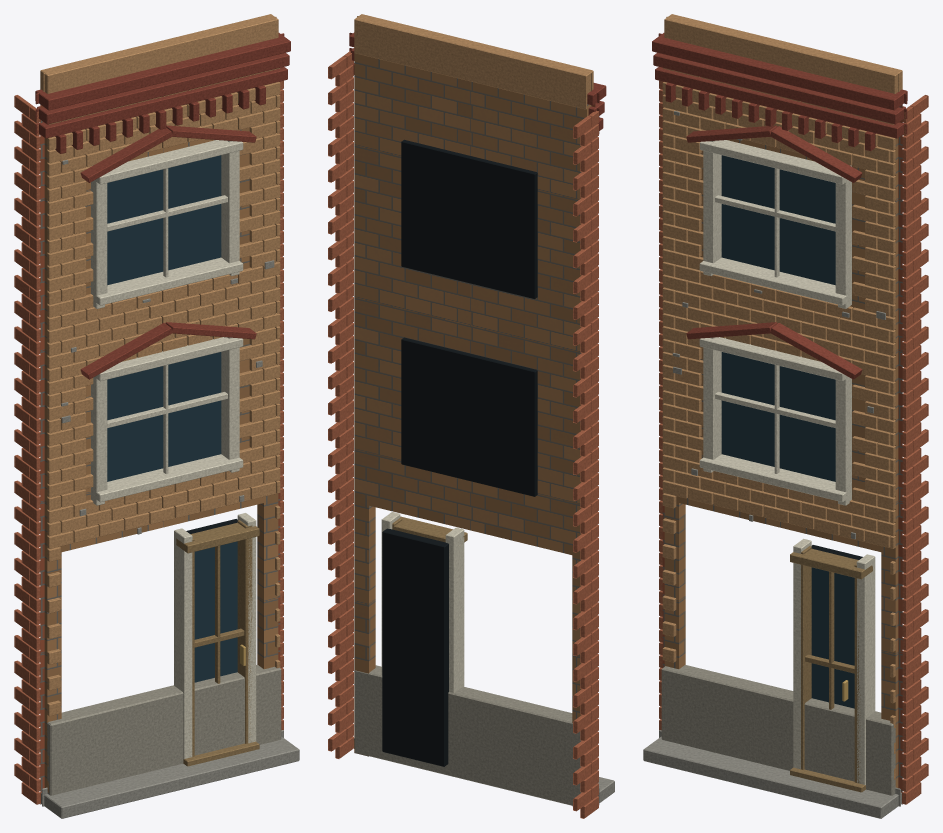
Rendered from VICT1A_lod0.glb.
3 renders of one model, left to right at view 1: azimuth 30°, elevation 25°; view 2: azimuth 150°, elevation 25°; view 3: azimuth 330°, elevation 25°, orthographic.
Visible parts, largest first — view 1: VICT1A_FRONT_LOD0; view 2: VICT1A_FRONT_LOD0; view 3: VICT1A_FRONT_LOD0.
Part boxes in pixels (<box>): VICT1A_FRONT_LOD0: <box>14,14,299,818</box>; VICT1A_FRONT_LOD0: <box>328,14,614,818</box>; VICT1A_FRONT_LOD0: <box>643,14,928,818</box>.
Bounding box in the file's own units: 3.44 × 9.66 × 1.02.
Materials: 17 (14 with a texture image).
